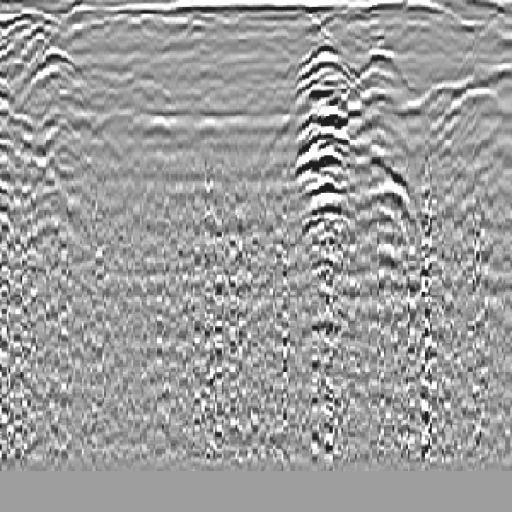metalic: (269, 33, 381, 290)
